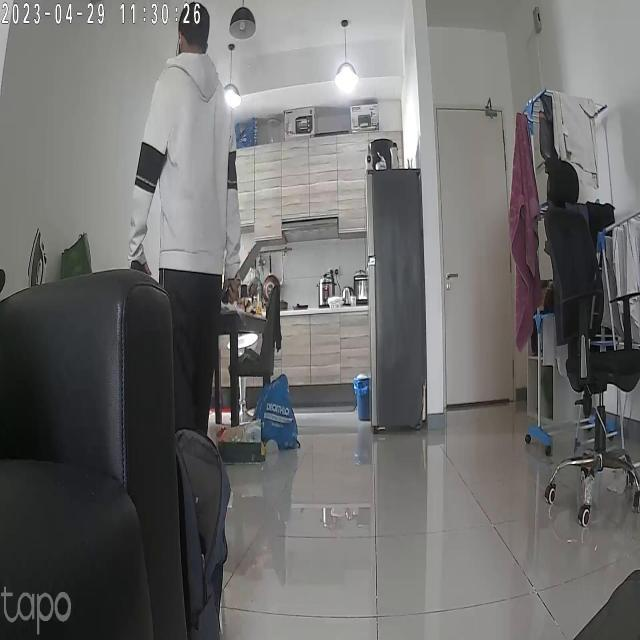Knife: (229, 230, 271, 292)
